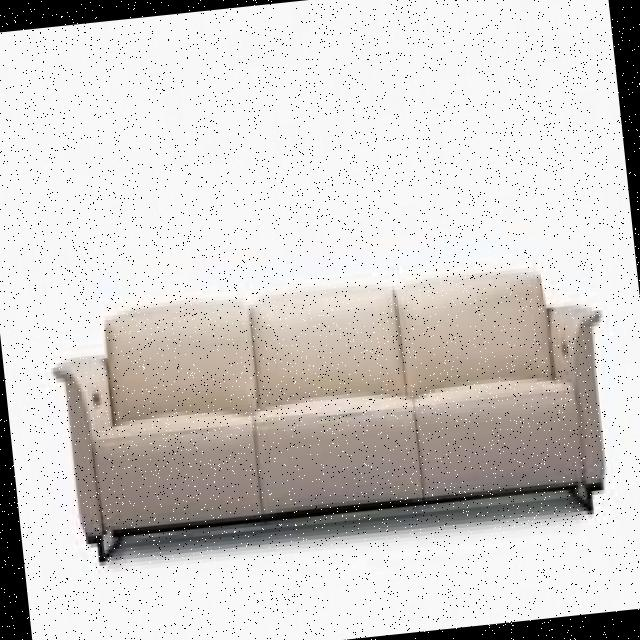Sofa: (29, 214, 640, 615)
